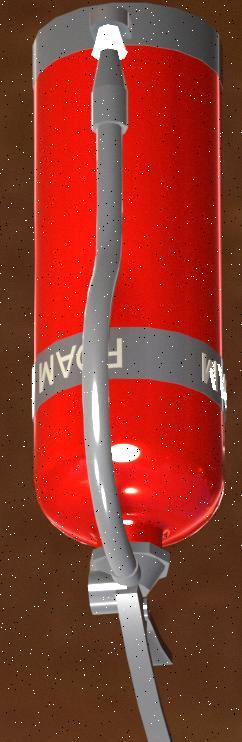Fire Extinguisher: (18, 0, 242, 742)
